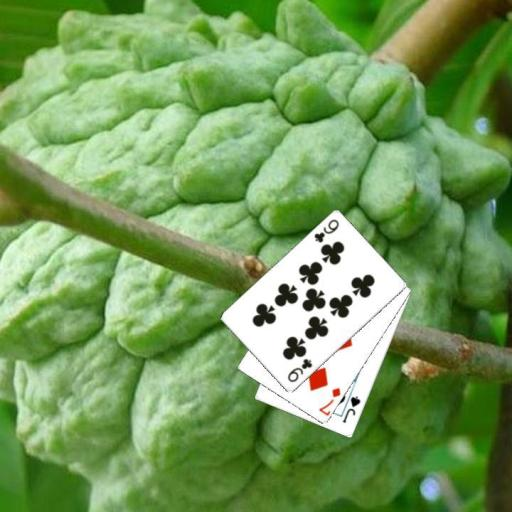7D: (316, 385, 342, 417)
9C: (311, 216, 341, 245), (285, 356, 314, 384)
JS: (339, 393, 362, 425)
